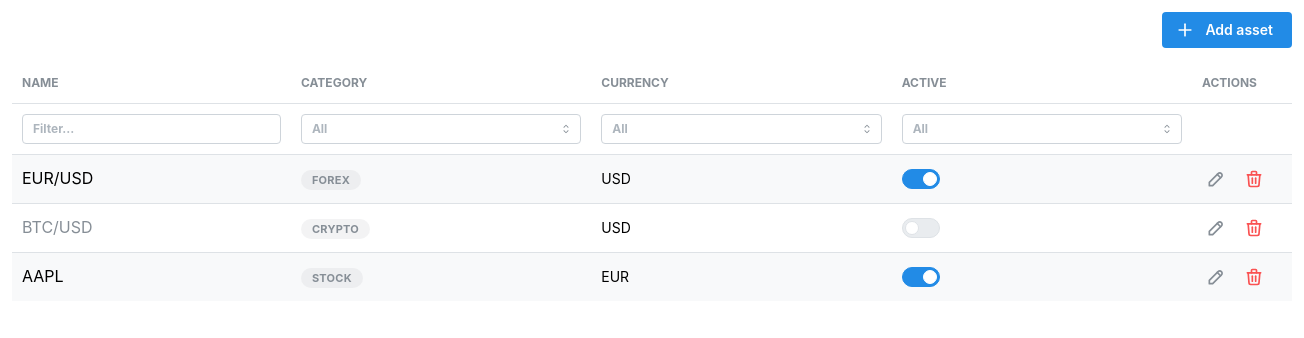
Test: AssetsTab › column filters › combines name and category filters (AND)
Expected: the text "EUR/USD" is shown, [22,168,93,188]
Type "usd" into the field named "Name" at (151, 129), box [22,114,281,144]
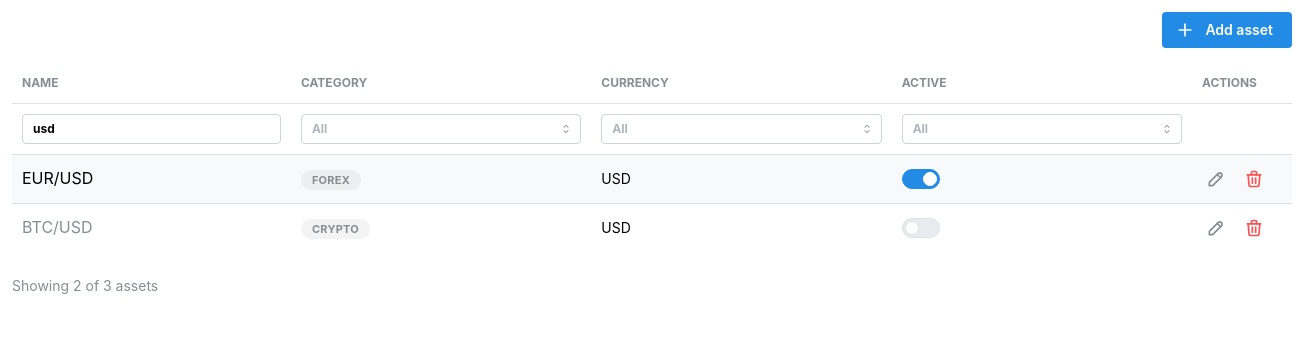
Click the field named "Category" at (441, 129), box [301,114,581,144]
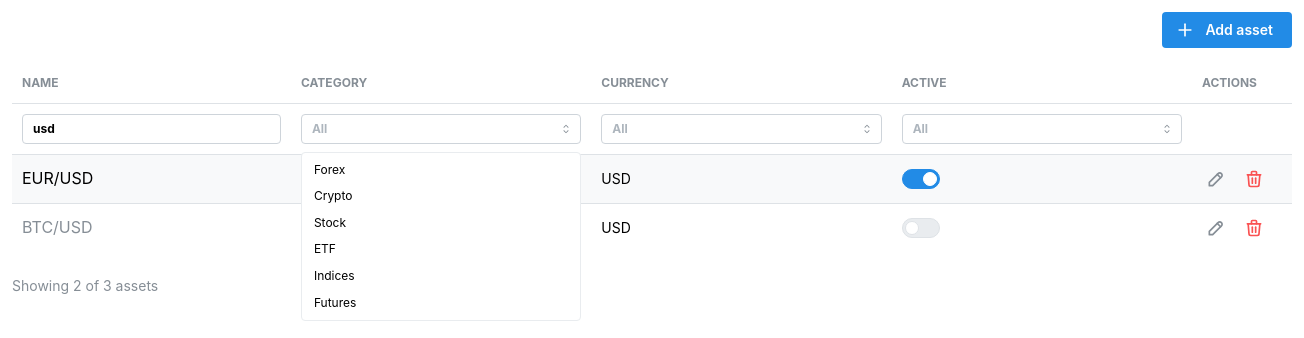
Click the option "Crypto" at (333, 196), box [314,188,352,203]
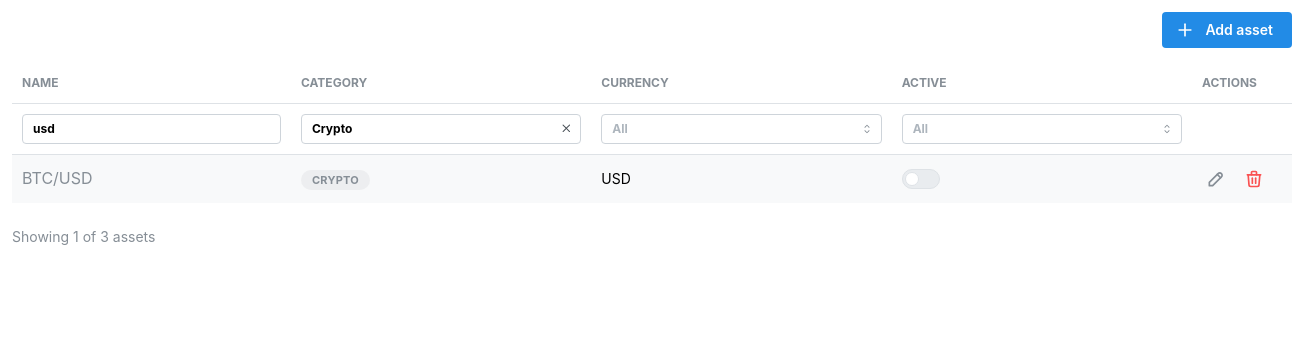
Expected: the text "BTC/USD" is shown, [22,168,93,188]
Expected: the text "EUR/USD" is gone
